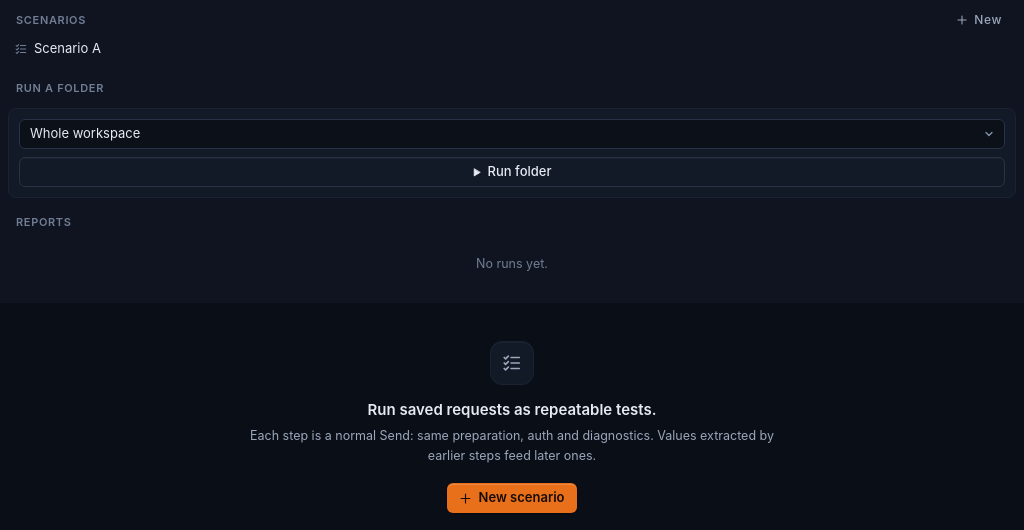
Test: starting a run › clears a run the backend no longer knows when Stop is pressed
expect the text "Scenario A" is shown: met, box [34, 40, 101, 56]
Click the button "Run folder" at (512, 172), box [19, 157, 1005, 187]
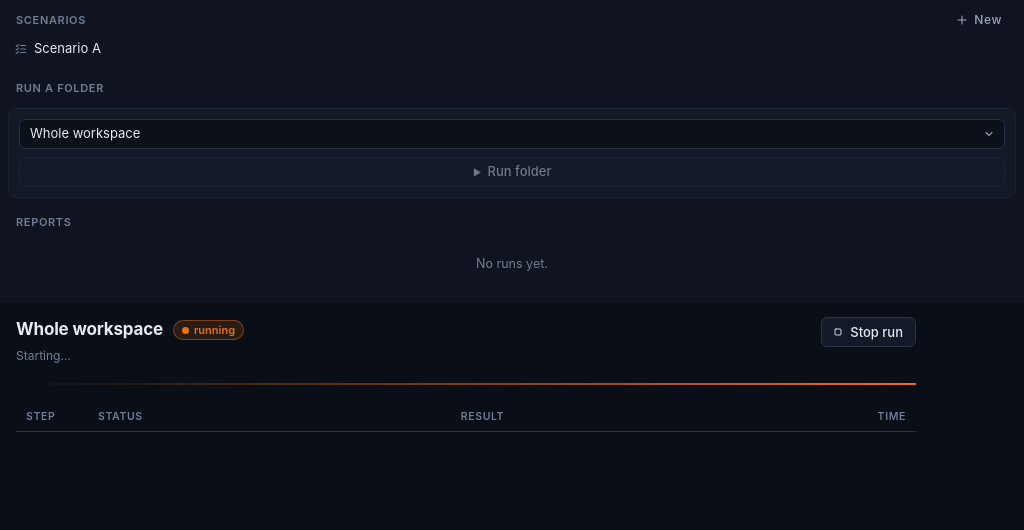
Click the button "Stop run" at (869, 332), box [821, 317, 916, 347]
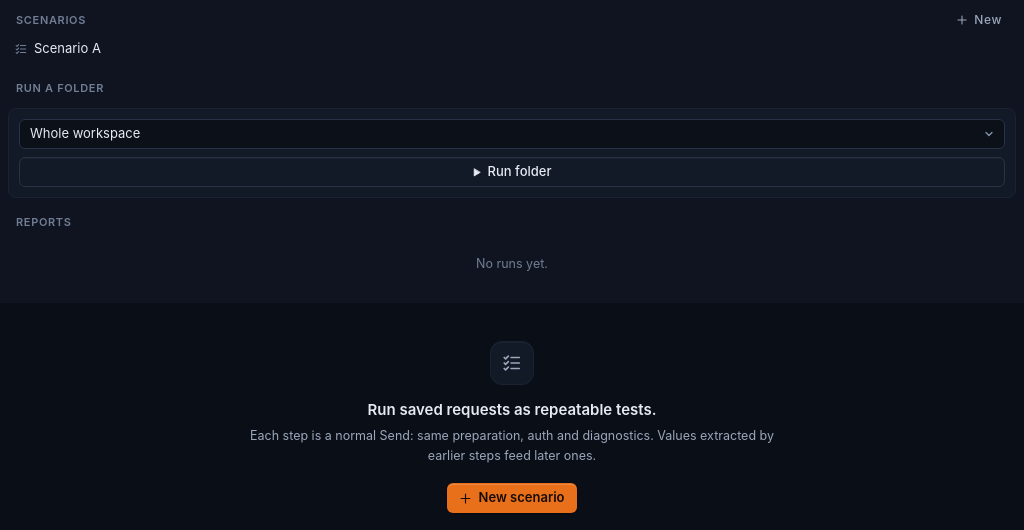
expect the button "Run folder" is enabled: met, box [19, 157, 1005, 187]
expect the button "Stop" is gone: met
